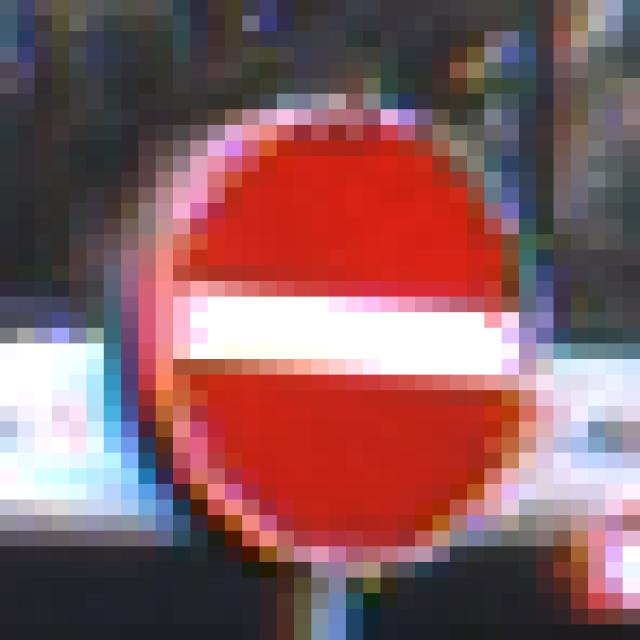No Entry: (105, 79, 554, 563)
